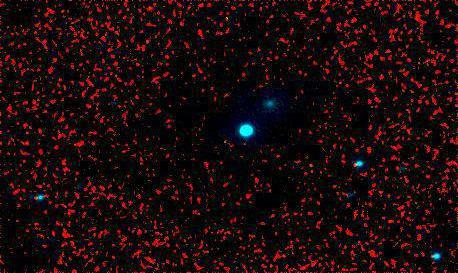star: (94, 88, 124, 118)
